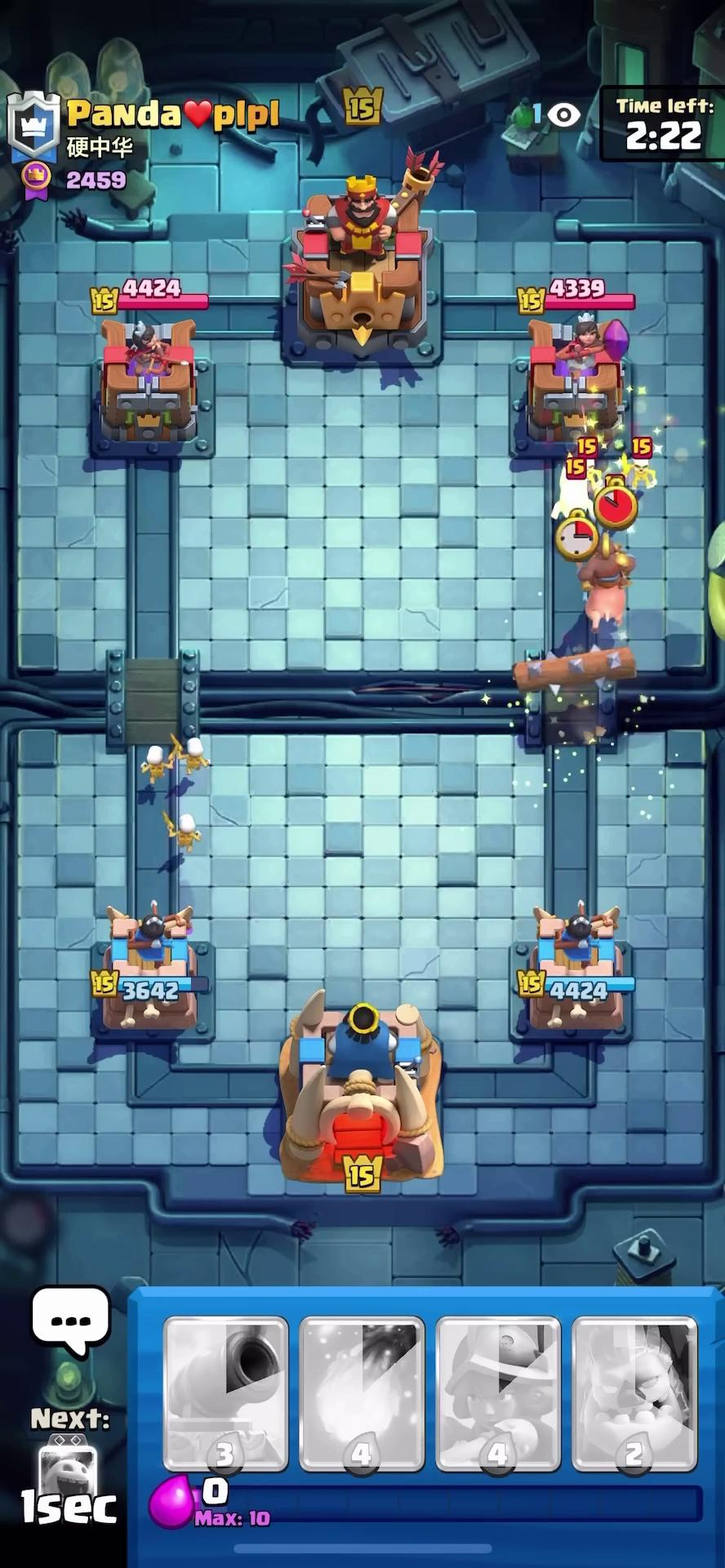hog_rider: (576, 539, 634, 634)
log: (503, 636, 652, 705)
skeletons: (118, 731, 211, 857)
